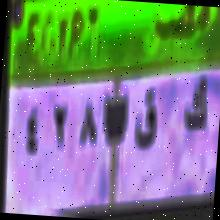2: (48, 99, 74, 160)
4: (22, 104, 45, 167)
8: (76, 98, 102, 158)
kaaf: (178, 72, 212, 147)
qaaf: (128, 86, 164, 160)
